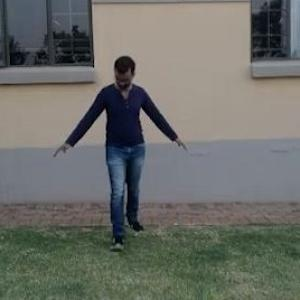land: (58, 32, 208, 256)
